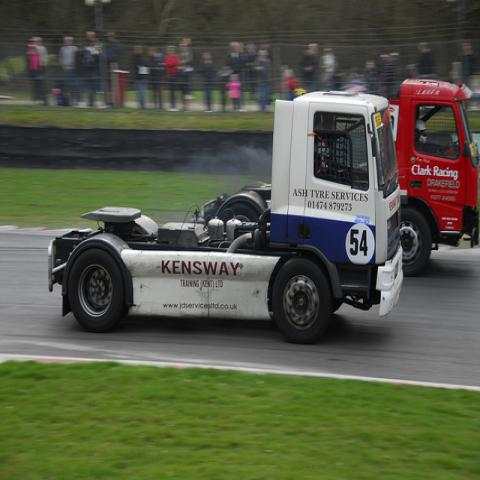truck: (47, 88, 402, 342), (392, 73, 480, 277)
